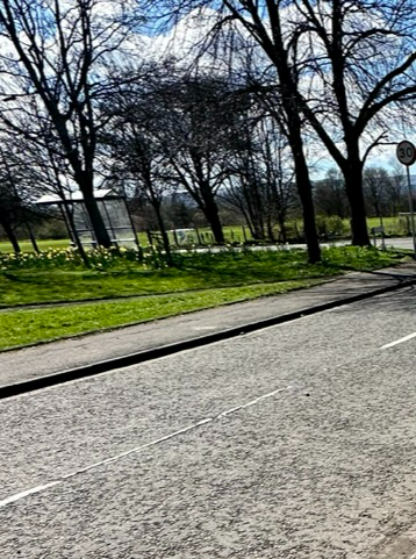tree: (0, 0, 132, 236), (232, 0, 344, 252), (140, 75, 256, 254), (325, 0, 409, 234), (103, 128, 178, 254)
